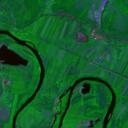alloviz: (1, 42, 29, 67), (79, 81, 92, 95)
